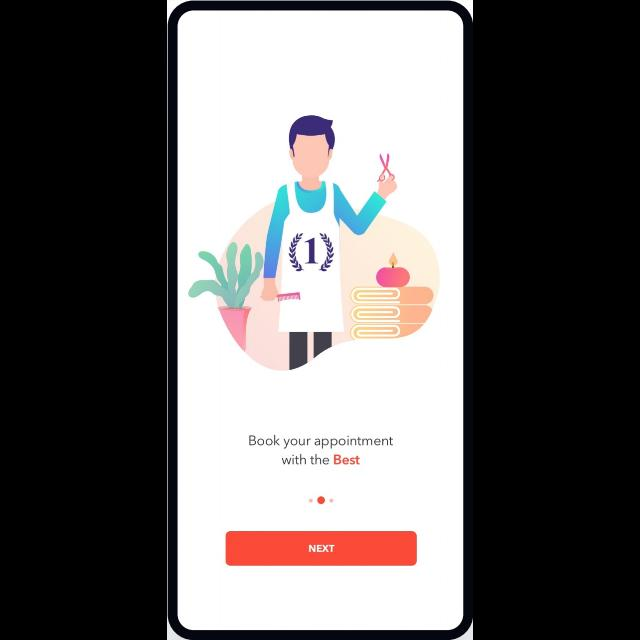image: (188, 116, 440, 370)
pageindicator: (310, 496, 334, 504)
text: (250, 434, 394, 464)
textbutton: (227, 531, 418, 565)
